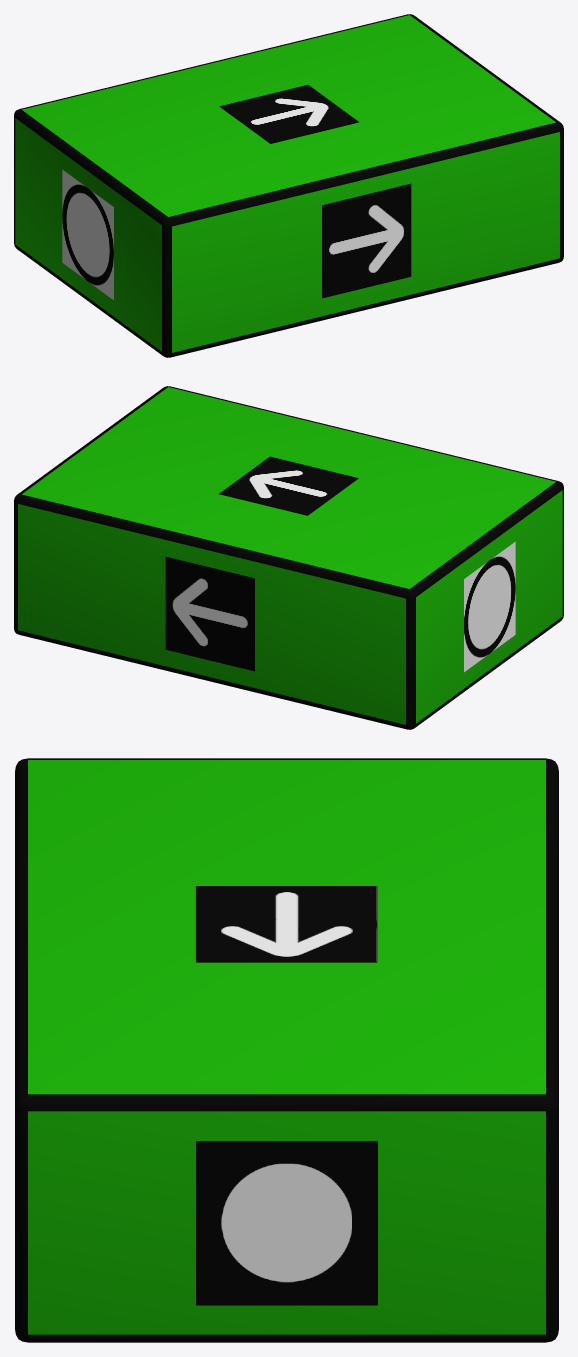
Rendered from BigBoxTapFlowBox_2_1_3_Line.fbx.
3 views of the same model, one above another, from view 1: azimuth 30°, elevation 25°; view 2: azimuth 150°, elevation 25°; view 3: azimuth 270°, elevation 25° (orthographic). The views are drawn at different scales.
Visible parts, largest first — view 1: BigBoxTapFlowBox_2_1_3; view 2: BigBoxTapFlowBox_2_1_3; view 3: BigBoxTapFlowBox_2_1_3.
Part boxes in pixels (x1,y1,x2,y2): BigBoxTapFlowBox_2_1_3: (14, 14, 563, 357); BigBoxTapFlowBox_2_1_3: (14, 386, 563, 729); BigBoxTapFlowBox_2_1_3: (15, 758, 558, 1342).
Bounding box in the file's own units: 3.15 × 1.07 × 2.12.
1 material, 1 textured.
